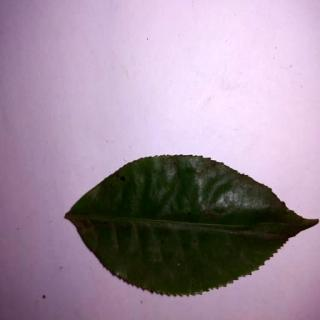Bird Eye Spot: (66, 154, 320, 299)
